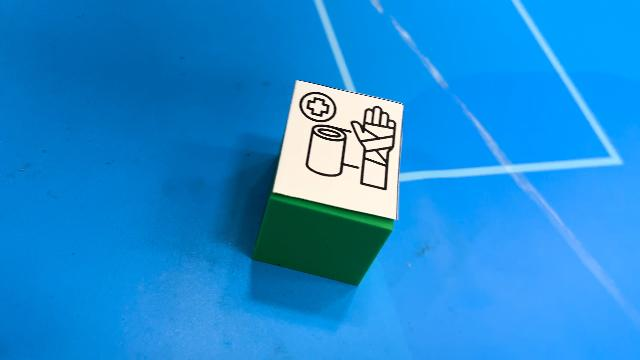bandage: (252, 80, 404, 286)
